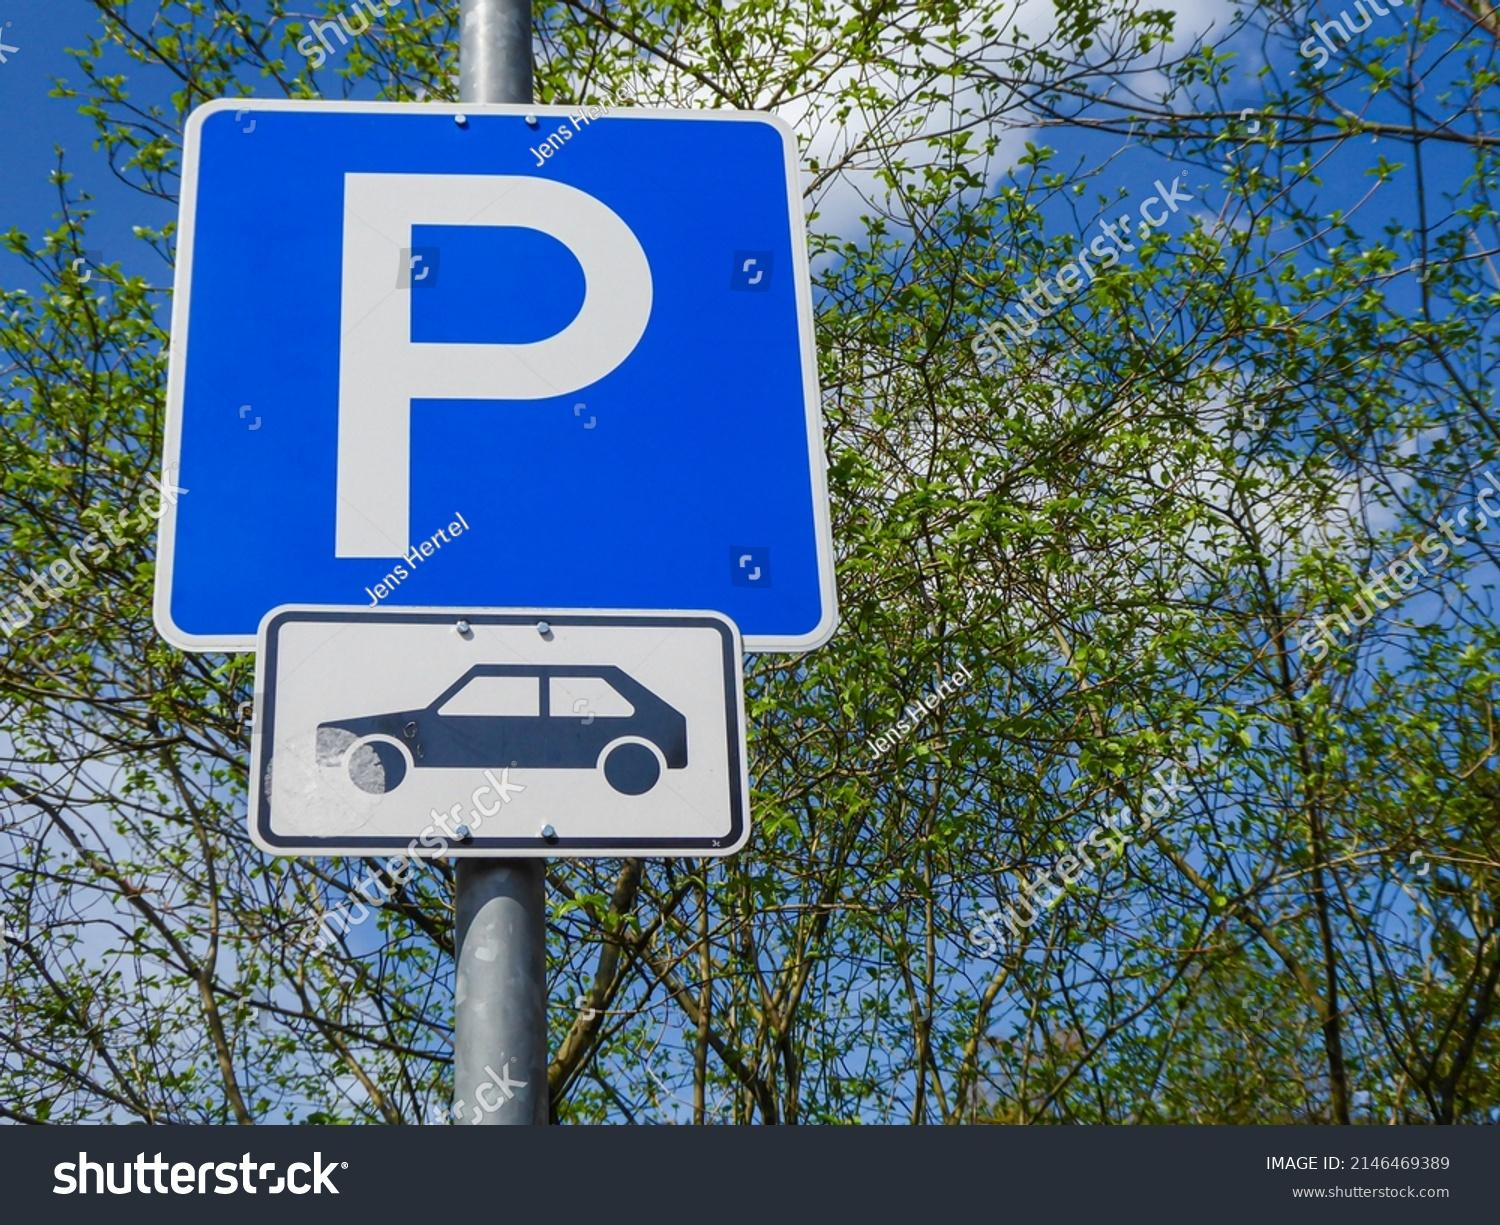parking: (178, 96, 843, 654)
